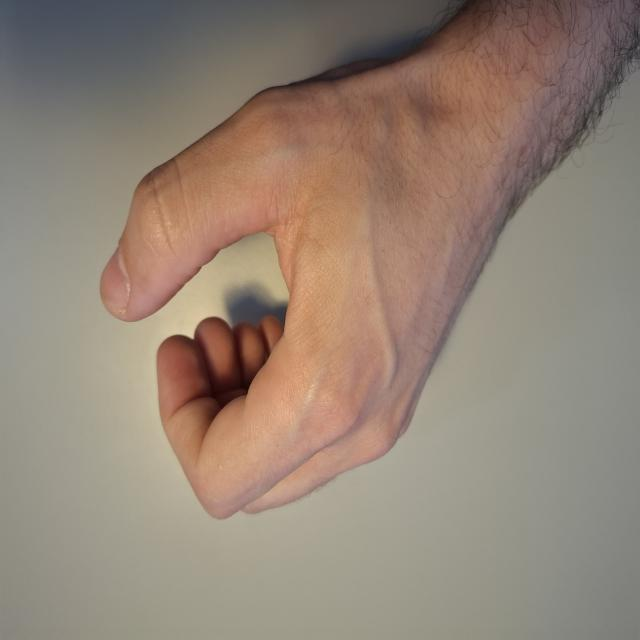glove_off: (98, 11, 556, 523)
